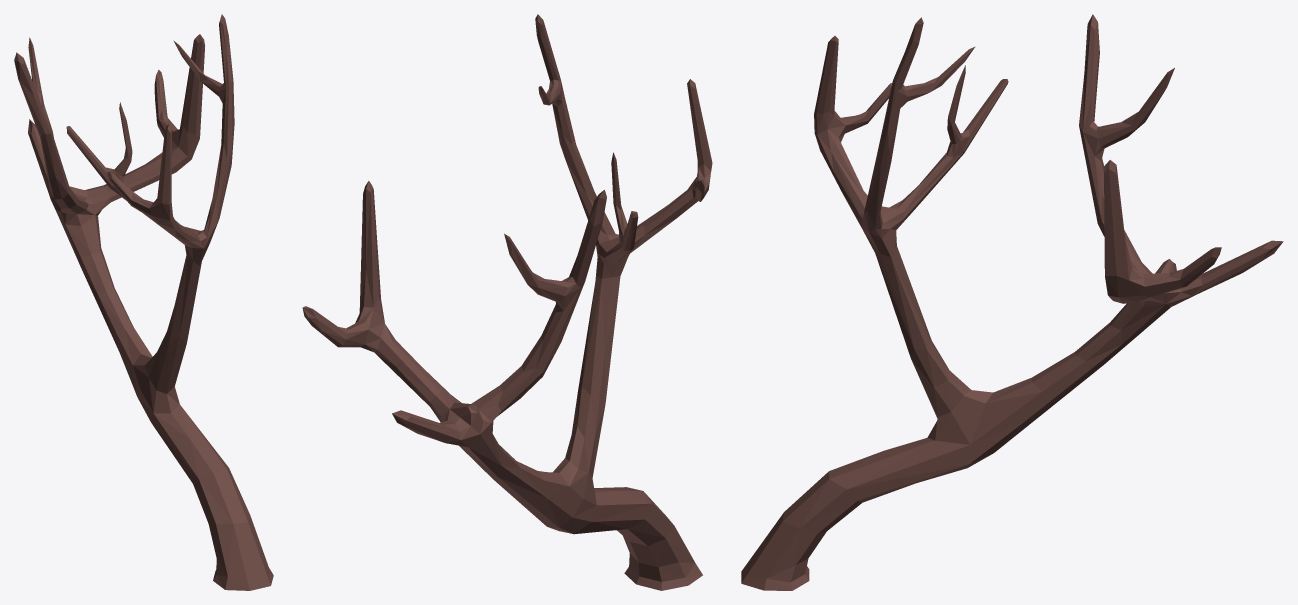
File: Willow_Dead_2.lod1.glb
The picture shows the model from 3 angles, left to right: view 1: azimuth 30°, elevation 25°; view 2: azimuth 150°, elevation 25°; view 3: azimuth 270°, elevation 25°; orthographic projection. The views are drawn at different scales.
Parts seen in each view (by area): view 1: Willow_Dead_2; view 2: Willow_Dead_2; view 3: Willow_Dead_2.
Part boxes in pixels (x1=…): Willow_Dead_2: x1=14, y1=14, x2=273, y2=590; Willow_Dead_2: x1=302, y1=14, x2=712, y2=590; Willow_Dead_2: x1=741, y1=14, x2=1283, y2=590.
Size of the model in its own units: 1.17 by 2.83 by 2.39.
